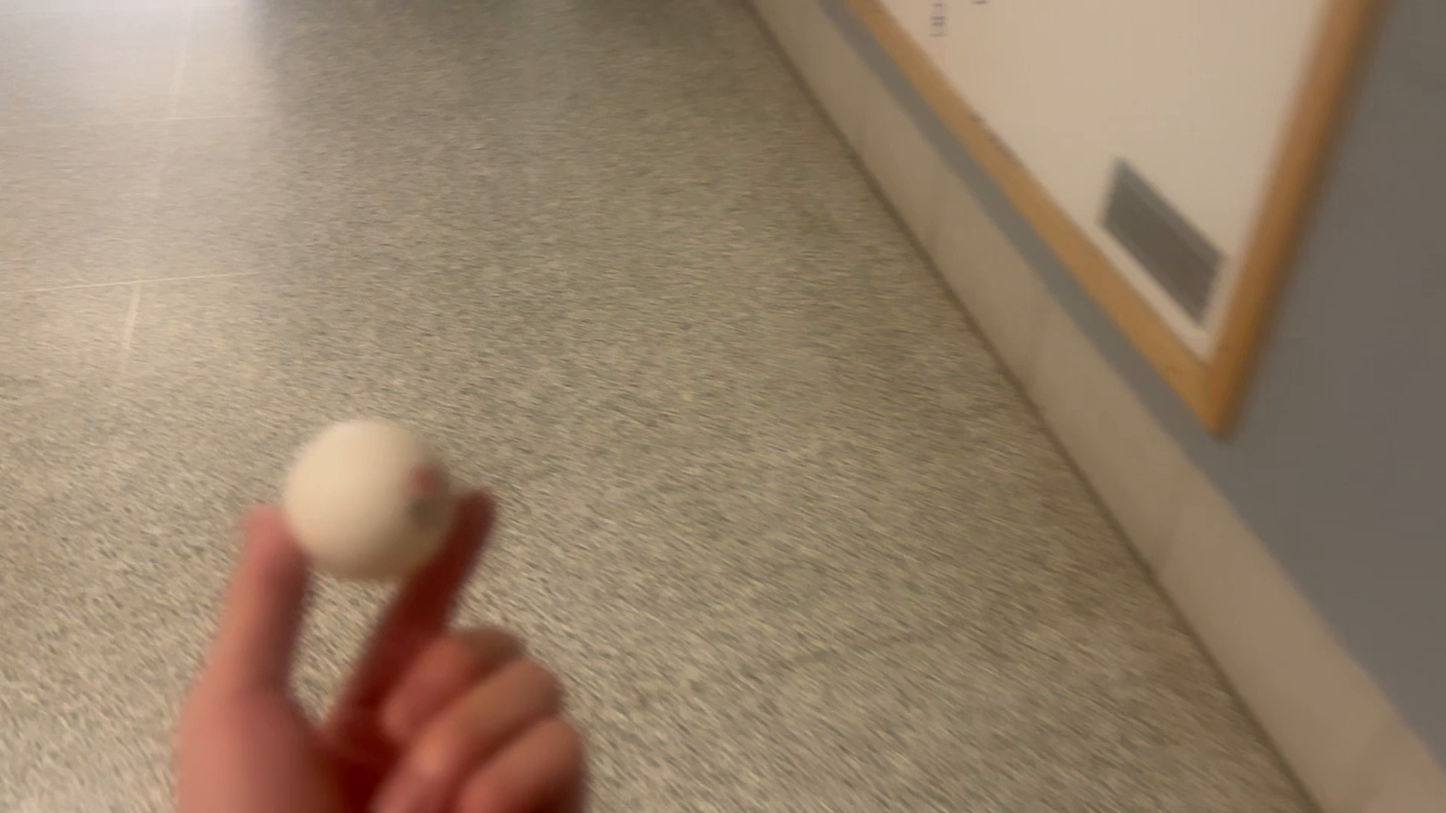Ball: (274, 423, 475, 592)
